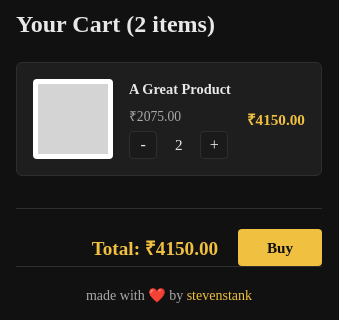
Cart › decreases item quantity when - is clicked
This screenshot has width=339, height=320.
Click the button named "decrease quantity". click: (143, 145)
box: x1=129 y1=131 x2=157 y2=159
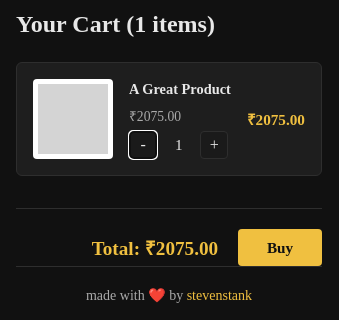
Result: the text "1" is shown at x1=175 y1=136 x2=182 y2=153
